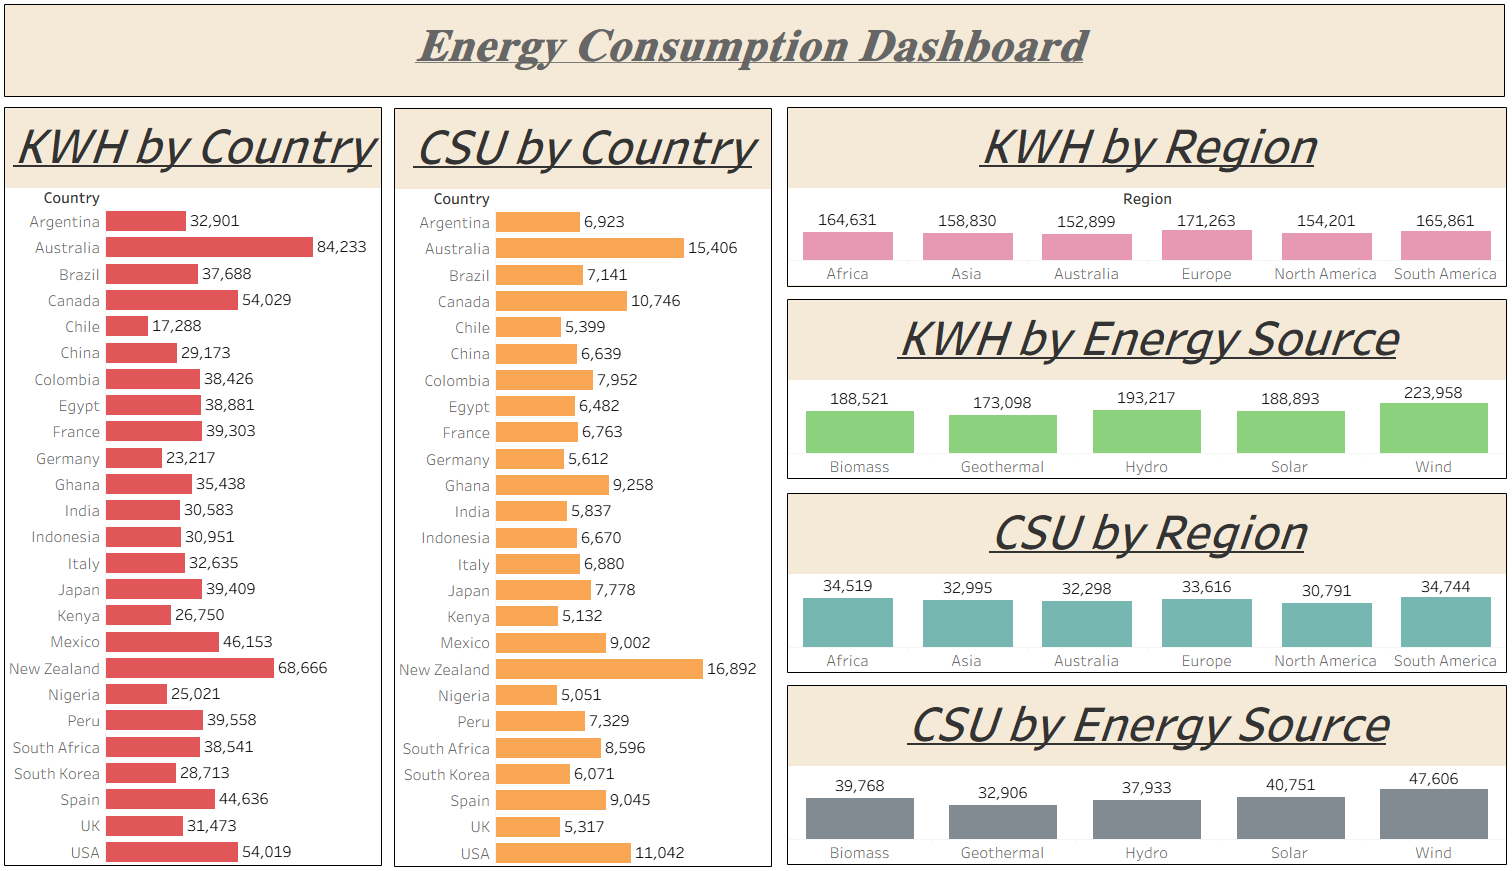

Layout of this report page (visuals, bound fields, positions):
{"tool":"tableau","page":{"name":"Tableau Dashboard","canvas":[1000,1000],"units":"permille","ordinal":0},"visuals":[{"type":"text","box":[7.9,27.4,905.9,102.1]},{"type":"worksheet","title":"KWH by Country","mark":"Automatic","rows":["COUNTRY"],"cols":["MONTHLY_USAGE_KWH"],"box":[7.9,140.5,228.1,833.1]},{"type":"worksheet","title":"KWH by Region","mark":"Automatic","rows":["MONTHLY_USAGE_KWH"],"cols":["REGION"],"box":[480.4,140.5,434.5,197.6]},{"type":"worksheet","title":"CSU by Country","mark":"Automatic","rows":["COUNTRY"],"cols":["COST_SAVINGS_USD"],"box":[243.2,141.6,228.1,833.1]},{"type":"worksheet","title":"KWH by Energy Source","mark":"Automatic","rows":["MONTHLY_USAGE_KWH"],"cols":["ENERGY_SOURCE"],"box":[480.4,351.3,434.5,197.6]},{"type":"worksheet","title":"CSU by Region","mark":"Automatic","rows":["COST_SAVINGS_USD"],"cols":["REGION"],"box":[480.4,564.2,434.5,197.6]},{"type":"worksheet","title":"CSU by Energy Source","mark":"Automatic","rows":["COST_SAVINGS_USD"],"cols":["ENERGY_SOURCE"],"box":[480.4,775,434.5,197.6]}]}

Visuals, with their boxes on the dashboard's canvas, which has no fixed pixel size, in thousandths of its width and height (x1, y1, x2, y2). These are canvas units, not pixel positions in the 1512x871 screenshot, which may show the page scaled, cropped or inside an application window:
text: [left=8, top=27, right=914, bottom=130]
"KWH by Country" worksheet: [left=8, top=140, right=236, bottom=974]
"KWH by Region" worksheet: [left=480, top=140, right=915, bottom=338]
"CSU by Country" worksheet: [left=243, top=142, right=471, bottom=975]
"KWH by Energy Source" worksheet: [left=480, top=351, right=915, bottom=549]
"CSU by Region" worksheet: [left=480, top=564, right=915, bottom=762]
"CSU by Energy Source" worksheet: [left=480, top=775, right=915, bottom=973]
